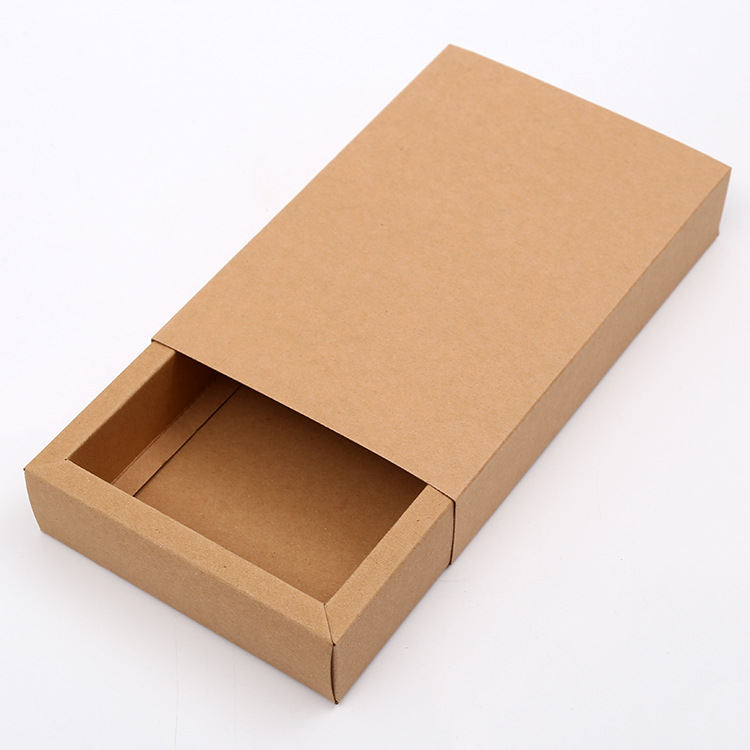Rec_Paper: (19, 25, 724, 714)
